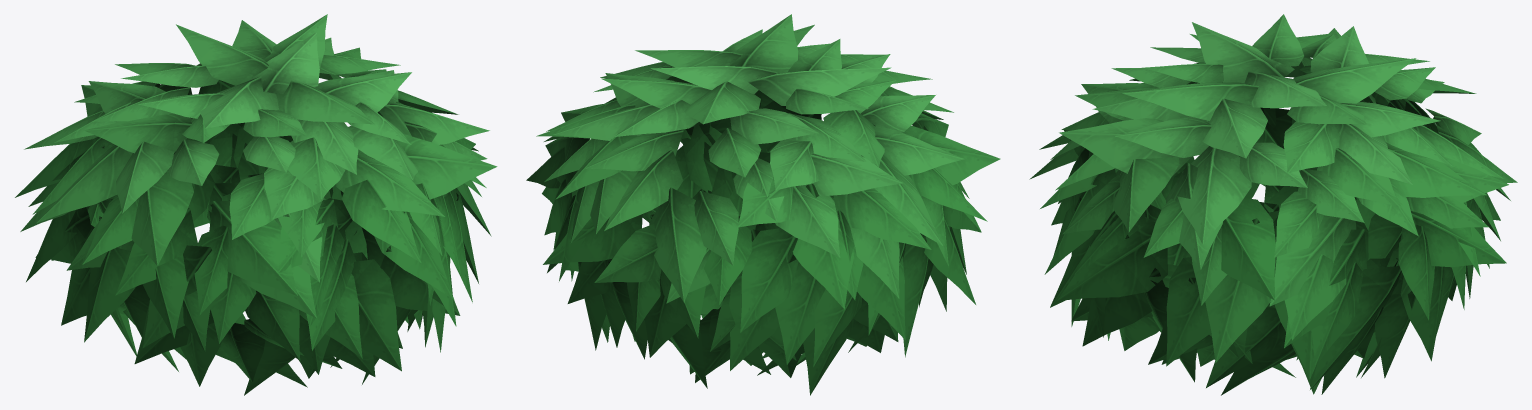
The picture shows the model from 3 angles, left to right: view 1: azimuth 30°, elevation 25°; view 2: azimuth 150°, elevation 25°; view 3: azimuth 270°, elevation 25°; orthographic projection. The views are drawn at different scales.
Visible parts, largest first — view 1: grid_7_leaves_LOD0; view 2: grid_7_leaves_LOD0; view 3: grid_7_leaves_LOD0.
Boxes of the visible parts, bbox=[...] form: grid_7_leaves_LOD0: bbox=[15, 14, 497, 395]; grid_7_leaves_LOD0: bbox=[526, 14, 1000, 395]; grid_7_leaves_LOD0: bbox=[1029, 14, 1517, 395].
Size of what is drawn, in the model's own units: 1.45 by 0.9389 by 1.4.
Materials: 1 (1 with a texture image).
